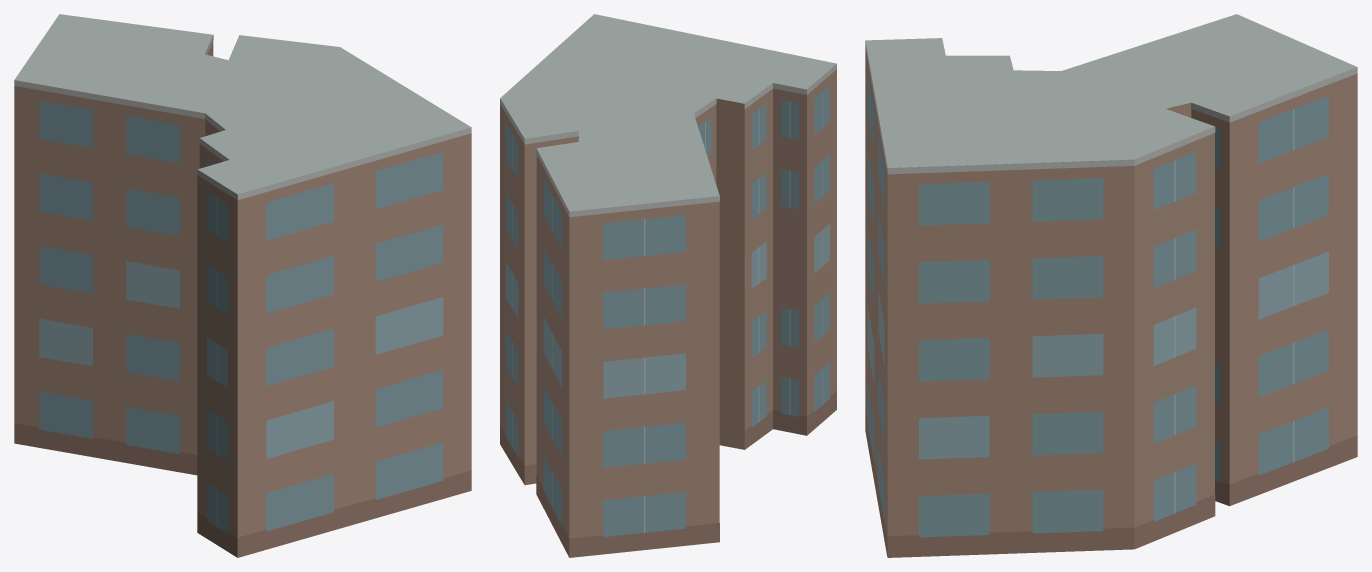
Rendered from survey-upis-32952116.glb.
The picture shows the model from 3 angles, left to right: view 1: azimuth 30°, elevation 25°; view 2: azimuth 150°, elevation 25°; view 3: azimuth 270°, elevation 25°; orthographic projection. The views are drawn at different scales.
Visible parts, largest first — view 1: survey-upis-32952116.tmp; view 2: survey-upis-32952116.tmp; view 3: survey-upis-32952116.tmp.
Part boxes in pixels (box(x1,y1,x2,y2)): survey-upis-32952116.tmp: box(14, 14, 471, 557); survey-upis-32952116.tmp: box(500, 14, 836, 557); survey-upis-32952116.tmp: box(865, 14, 1357, 557).
Bounding box in the file's own units: 12.95 × 15.25 × 17.47.
